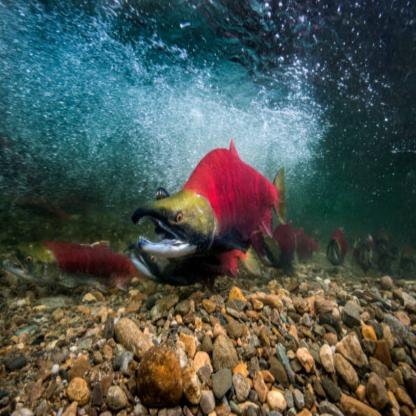sockeye: (140, 138, 286, 258), (5, 228, 134, 298)
